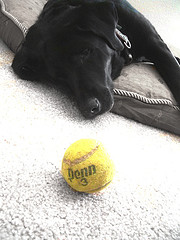tennis ball: (61, 139, 115, 193)
